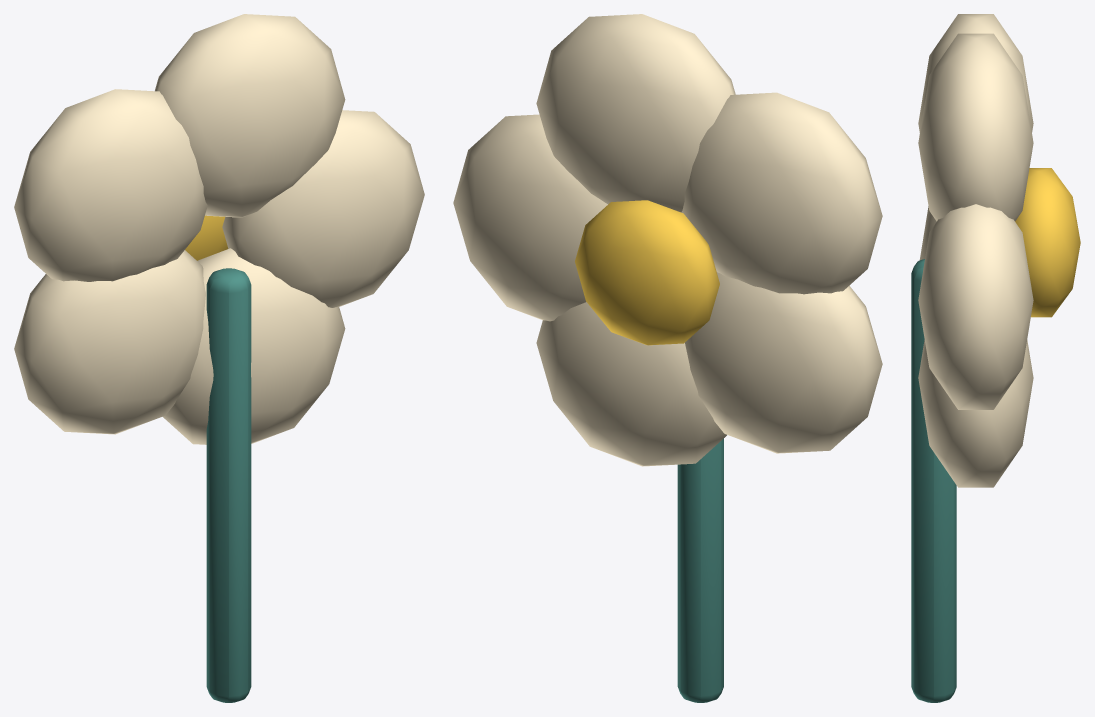
The model's file is Flower.fbx.
The picture shows the model from 3 angles, left to right: view 1: azimuth 30°, elevation 25°; view 2: azimuth 150°, elevation 25°; view 3: azimuth 270°, elevation 25°; orthographic projection. The views are drawn at different scales.
Visible parts, largest first — view 1: Petal.002, Petal.001, Petal.003, Petal, Stem, Petal.004, Center; view 2: Petal.002, Petal.001, Petal.003, Petal, Petal.004, Center, Stem; view 3: Petal, Petal.001, Stem, Petal.004, Center, Petal.002, Petal.003.
Boxes of the visible parts, left/top/right/bottom form: Petal.002: left=14, top=89, right=207, bottom=281; Petal.001: left=155, top=14, right=345, bottom=217; Petal.003: left=14, top=250, right=205, bottom=434; Petal: left=222, top=110, right=424, bottom=307; Stem: left=206, top=268, right=251, bottom=702; Petal.004: left=163, top=248, right=345, bottom=444; Center: left=185, top=215, right=228, bottom=260; Petal.002: left=681, top=92, right=882, bottom=294; Petal.001: left=536, top=14, right=735, bottom=212; Petal.003: left=685, top=272, right=882, bottom=453; Petal: left=453, top=114, right=607, bottom=321; Petal.004: left=536, top=302, right=726, bottom=466; Center: left=575, top=200, right=719, bottom=345; Stem: left=677, top=438, right=723, bottom=702; Petal: left=918, top=204, right=1033, bottom=409; Petal.001: left=918, top=33, right=1033, bottom=221; Stem: left=911, top=259, right=956, bottom=702; Petal.004: left=918, top=340, right=1033, bottom=487; Center: left=1015, top=168, right=1080, bottom=317; Petal.002: left=918, top=14, right=1033, bottom=132; Petal.003: left=919, top=206, right=936, bottom=260.
Bounding box in the file's own units: 0.4444 × 0.7136 × 0.1617.
